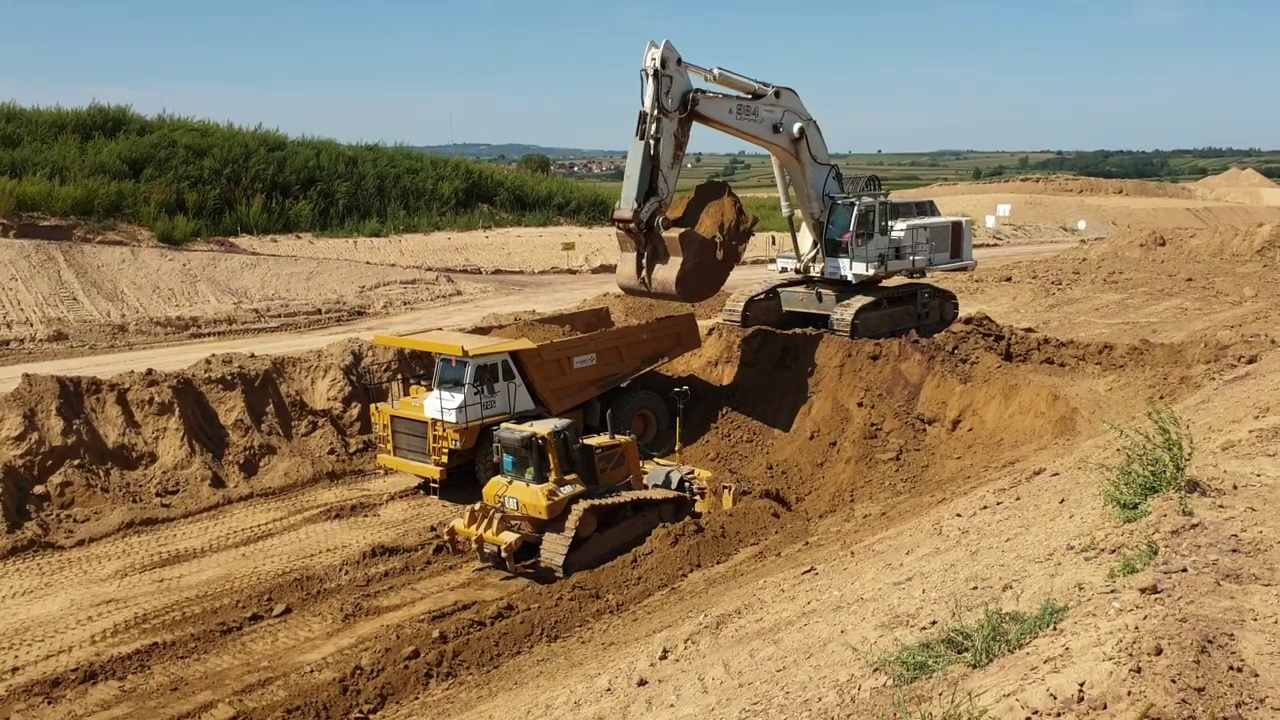bulldozer: (439, 382, 739, 585)
excavator: (612, 34, 981, 347)
truck: (354, 299, 704, 505)
